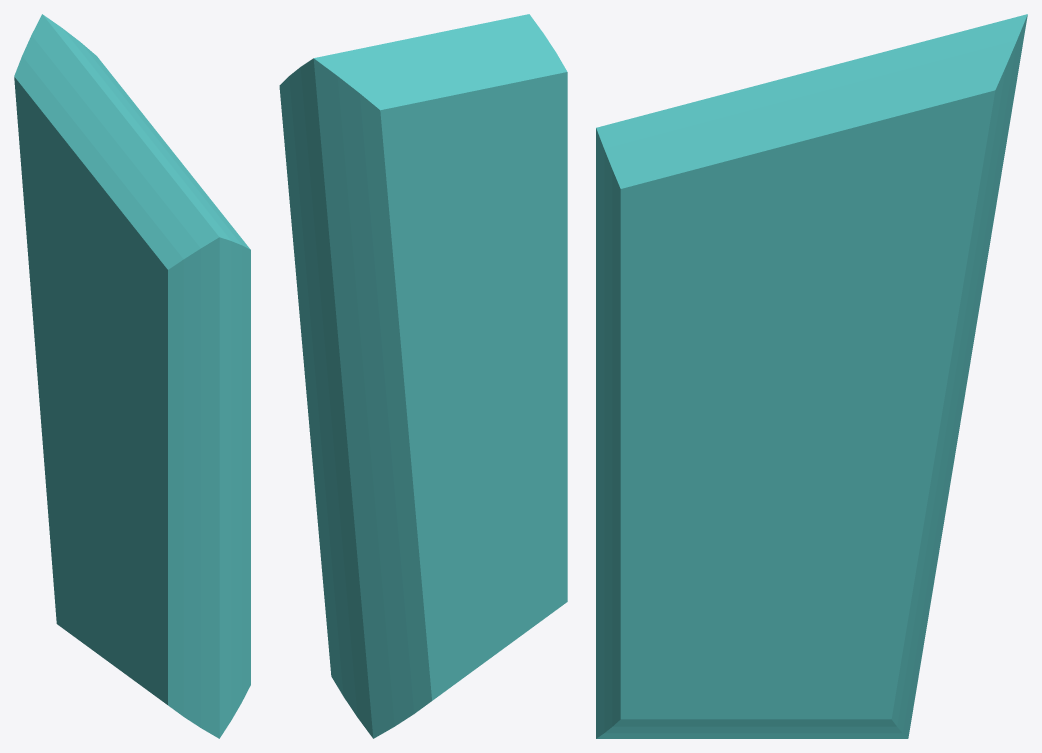
The model's file is OdłamekLustra.fbx.
The picture shows the model from 3 angles, left to right: view 1: azimuth 30°, elevation 25°; view 2: azimuth 150°, elevation 25°; view 3: azimuth 270°, elevation 25°; orthographic projection. The views are drawn at different scales.
Parts seen in each view (by area): view 1: Cube.030; view 2: Cube.030; view 3: Cube.030.
Part boxes in pixels (x1,y1,x2,y2): Cube.030: [14, 14, 250, 738]; Cube.030: [279, 14, 567, 738]; Cube.030: [596, 14, 1027, 738].
Size of the model in its own units: 80.19 by 551 by 297.
